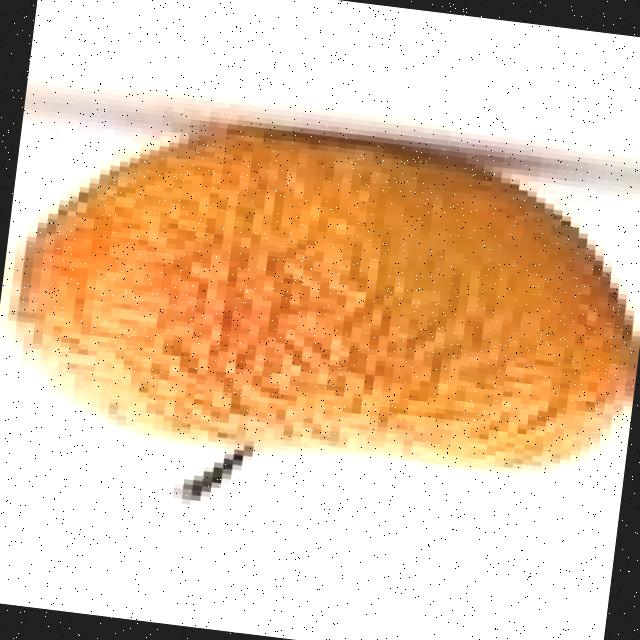overripe: (0, 94, 640, 501)
